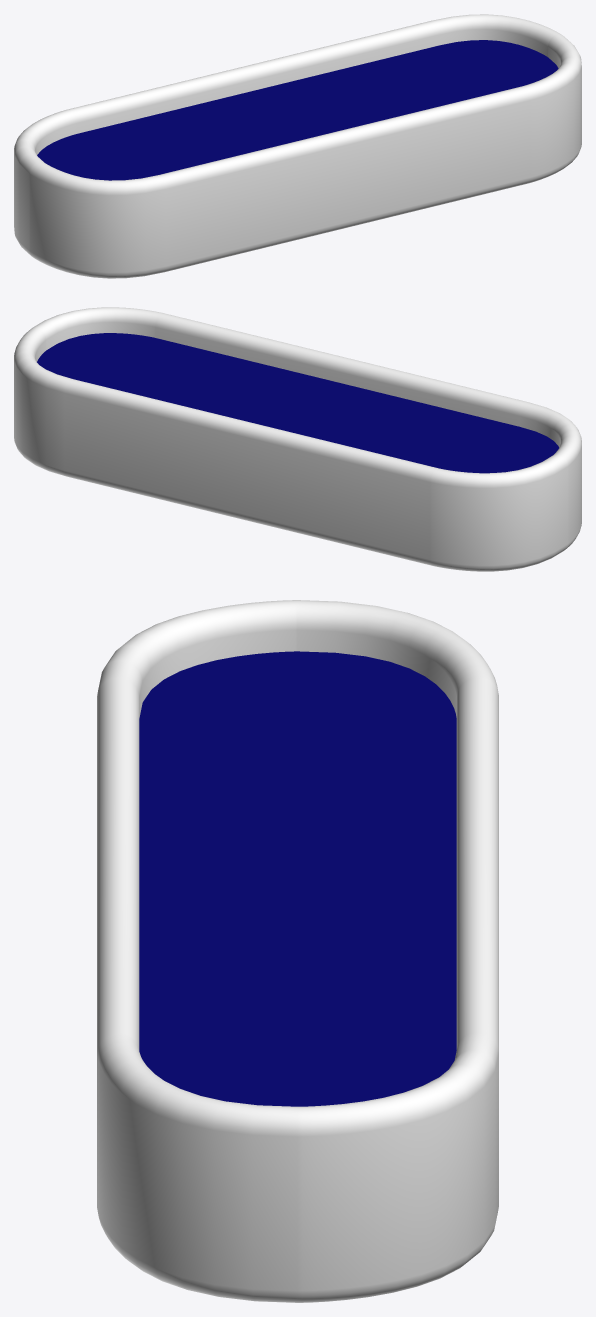
File: Paddle-7.dae
3 renders of one model, top to bottom at view 1: azimuth 30°, elevation 25°; view 2: azimuth 150°, elevation 25°; view 3: azimuth 270°, elevation 25°, orthographic. The views are drawn at different scales.
Visible parts, largest first — view 1: Paddle; view 2: Paddle; view 3: Paddle.
Boxes of the visible parts, box(x1,y1,x2,y2) form: Paddle: box(14, 14, 581, 278); Paddle: box(14, 307, 581, 571); Paddle: box(97, 600, 498, 1302).
Bounding box in the file's own units: 0.3029 × 0.0518 × 0.0981.
